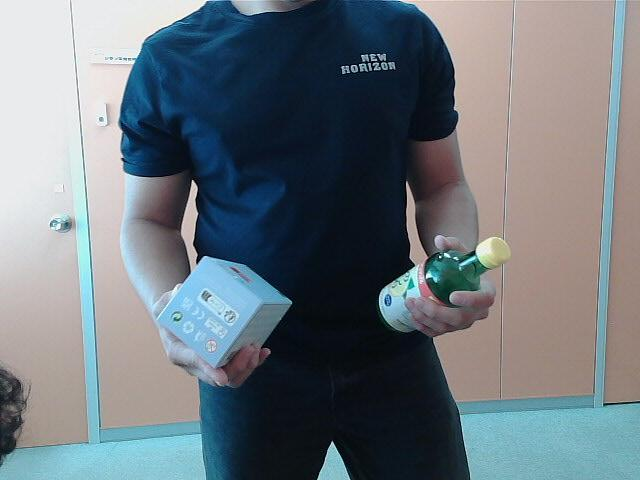Blind_box: (159, 255, 295, 376)
Lemon_sapporo: (372, 238, 512, 340)
